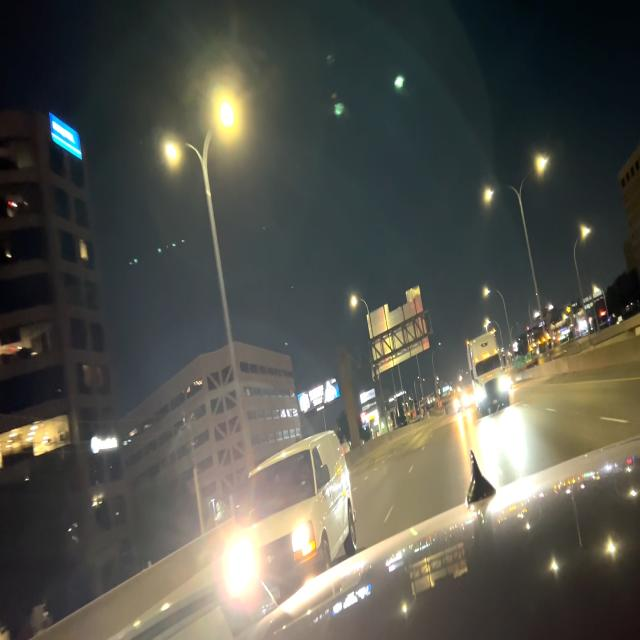back-of-sign: (366, 286, 431, 375)
